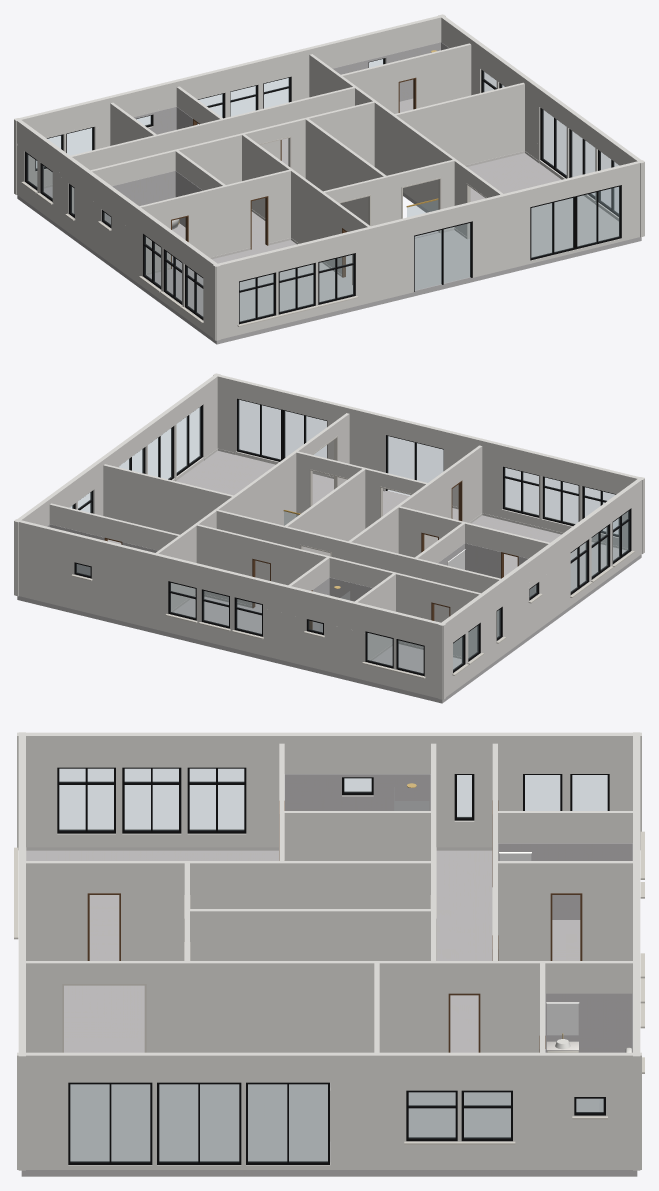
File: int_est_S6_1.glb
3 renders of one model, top to bottom at view 1: azimuth 30°, elevation 25°; view 2: azimuth 150°, elevation 25°; view 3: azimuth 270°, elevation 25°, orthographic. The views are drawn at different scales.
Visible parts, largest first — view 1: WALL_0, ROOM, WALL_15, WALL_10, WALL_7, WALL_5, WALL_9, WALL_4, WALL_3, WALL_13, WALL_14, WALL_1 (+5 smaller); view 2: WALL_15, WALL_0, WALL_10, ROOM, WALL_5, WALL_13, WALL_7, WALL_3, WALL_4, WALL_1, WALL_9, WALL_6 (+5 smaller); view 3: WALL_5, ROOM, WALL_10, WALL_3, WALL_1, WALL_8, WALL_2, WALL_11, WALL_7, WALL_4, WALL_12, WALL_15 (+4 smaller).
Part boxes in pixels (x1=…): WALL_0: x1=213, y1=160, x2=644, y2=340; ROOM: x1=17, y1=42, x2=641, y2=344; WALL_15: x1=14, y1=14, x2=445, y2=194; WALL_10: x1=14, y1=118, x2=220, y2=340; WALL_7: x1=17, y1=101, x2=375, y2=276; WALL_5: x1=438, y1=14, x2=644, y2=237; WALL_9: x1=139, y1=169, x2=292, y2=272; WALL_4: x1=393, y1=82, x2=540, y2=165; WALL_3: x1=309, y1=54, x2=502, y2=239; WALL_13: x1=70, y1=86, x2=355, y2=213; WALL_14: x1=339, y1=43, x2=471, y2=113; WALL_1: x1=242, y1=134, x2=370, y2=284; WALL_15: x1=14, y1=519, x2=445, y2=699; WALL_0: x1=213, y1=373, x2=644, y2=553; WALL_10: x1=438, y1=477, x2=644, y2=699; ROOM: x1=17, y1=448, x2=641, y2=703; WALL_5: x1=14, y1=373, x2=220, y2=596; WALL_13: x1=195, y1=524, x2=480, y2=657; WALL_7: x1=215, y1=509, x2=570, y2=689; WALL_3: x1=156, y1=413, x2=349, y2=610; WALL_4: x1=93, y1=464, x2=234, y2=534; WALL_1: x1=348, y1=445, x2=482, y2=553; WALL_9: x1=397, y1=506, x2=549, y2=578; WALL_6: x1=295, y1=451, x2=427, y2=528; WALL_5: x1=17, y1=1052, x2=641, y2=1169; ROOM: x1=21, y1=774, x2=637, y2=1176; WALL_10: x1=17, y1=732, x2=641, y2=849; WALL_3: x1=26, y1=961, x2=632, y2=1052; WALL_1: x1=26, y1=861, x2=430, y2=960; WALL_8: x1=190, y1=909, x2=430, y2=960; WALL_2: x1=498, y1=861, x2=632, y2=960; WALL_11: x1=284, y1=811, x2=430, y2=860; WALL_7: x1=246, y1=743, x2=641, y2=962; WALL_4: x1=330, y1=962, x2=406, y2=1141; WALL_12: x1=495, y1=811, x2=632, y2=843; WALL_15: x1=633, y1=732, x2=644, y2=1170.
Bounding box in the file's own units: 22.03 × 3.85 × 17.98.
Materials: 12 (1 with a texture image).
